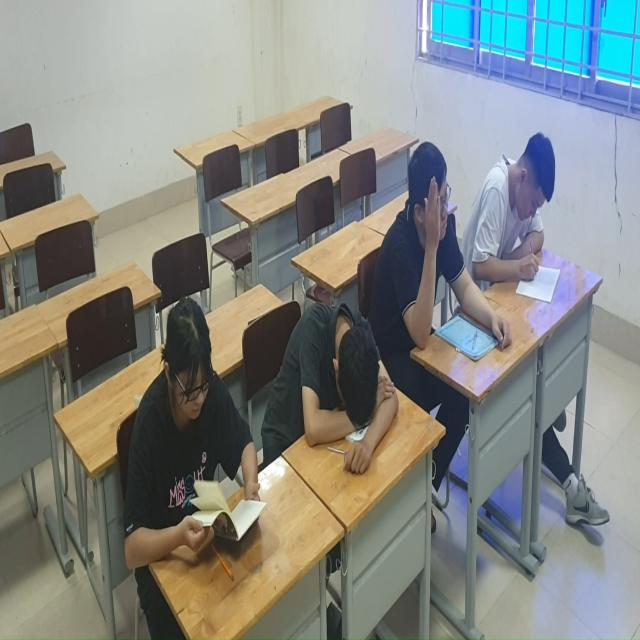raise_hand: (374, 135, 465, 362)
read: (120, 281, 270, 594), (468, 126, 570, 323)
sleep: (280, 293, 404, 493)
